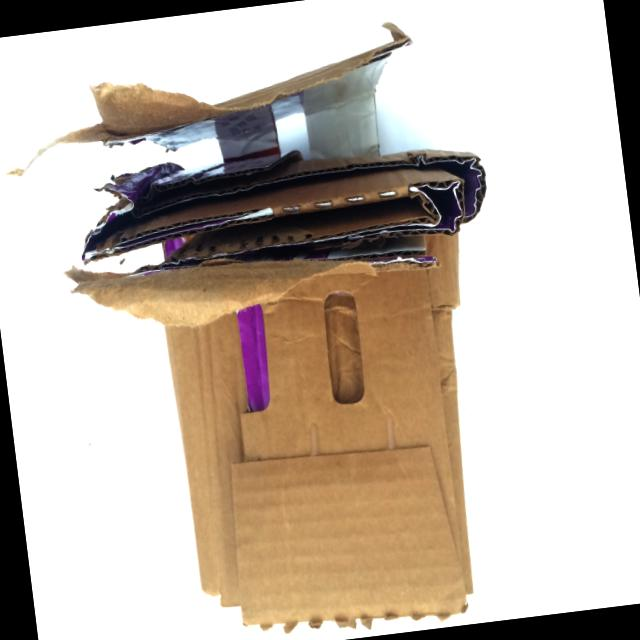Cardboard: (19, 0, 556, 640)
